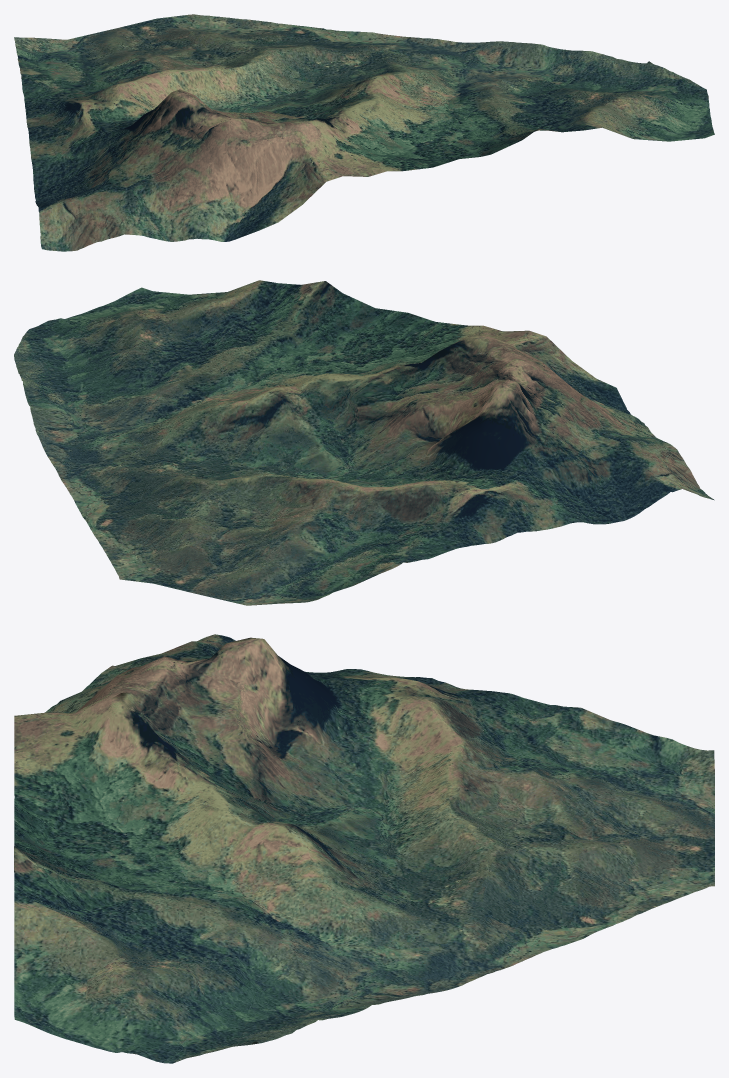
The model's file is mdl_brush_mountains.gltf.
3 renders of one model, top to bottom at view 1: azimuth 30°, elevation 25°; view 2: azimuth 150°, elevation 25°; view 3: azimuth 270°, elevation 25°, orthographic. The views are drawn at different scales.
Parts seen in each view (by area): view 1: EXPORT_GOOGLE_SAT_WM; view 2: EXPORT_GOOGLE_SAT_WM; view 3: EXPORT_GOOGLE_SAT_WM.
Part boxes in pixels (x1,y1,x2,y2): EXPORT_GOOGLE_SAT_WM: (14, 14, 714, 251); EXPORT_GOOGLE_SAT_WM: (14, 280, 714, 605); EXPORT_GOOGLE_SAT_WM: (14, 634, 714, 1063).
Bounding box in the file's own units: 6829 × 996 × 4894.
1 material, 1 textured.
